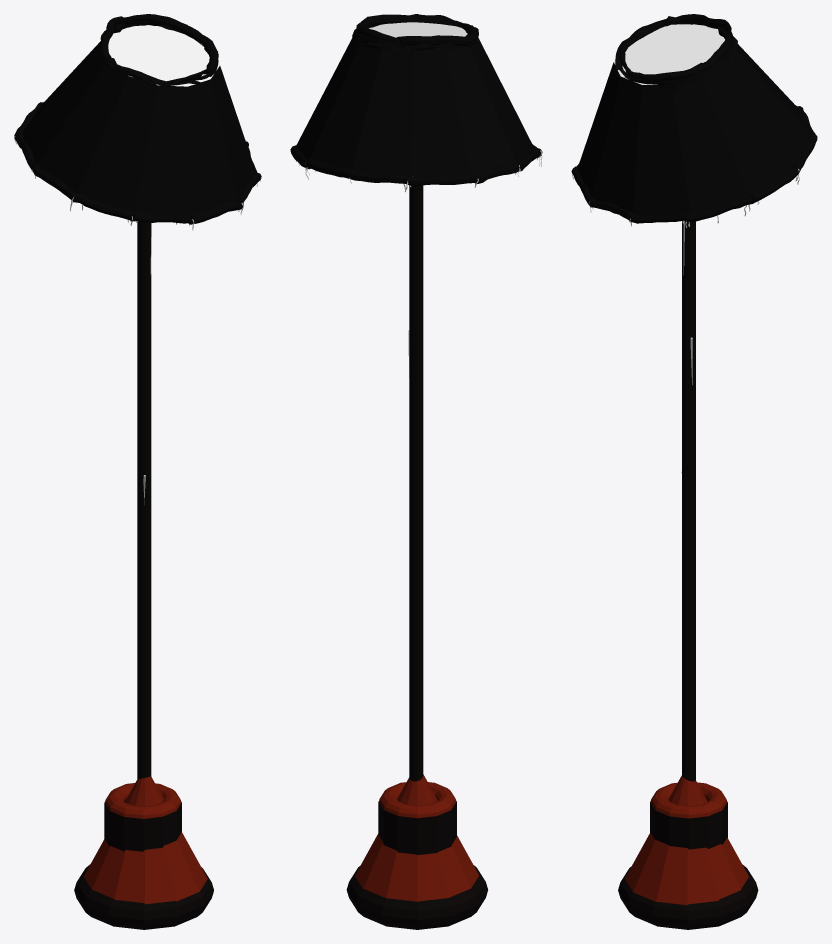
Rendered from lamp.fbx.
The picture shows the model from 3 angles, left to right: view 1: azimuth 30°, elevation 25°; view 2: azimuth 150°, elevation 25°; view 3: azimuth 270°, elevation 25°; orthographic projection.
Parts seen in each view (by area): view 1: 4yHHszFhizi_0_0_0, 4yHHszFhizi_1_0_0; view 2: 4yHHszFhizi_0_0_0, 4yHHszFhizi_1_0_0; view 3: 4yHHszFhizi_0_0_0, 4yHHszFhizi_1_0_0.
Boxes of the visible parts, x1,y1,x2,y2 form: 4yHHszFhizi_0_0_0: [14, 14, 261, 929]; 4yHHszFhizi_1_0_0: [108, 25, 219, 86]; 4yHHszFhizi_0_0_0: [290, 14, 542, 929]; 4yHHszFhizi_1_0_0: [369, 22, 467, 37]; 4yHHszFhizi_0_0_0: [571, 14, 817, 929]; 4yHHszFhizi_1_0_0: [614, 24, 724, 84].
Size of the model in its own units: 0.0369 by 0.1456 by 0.0369.
